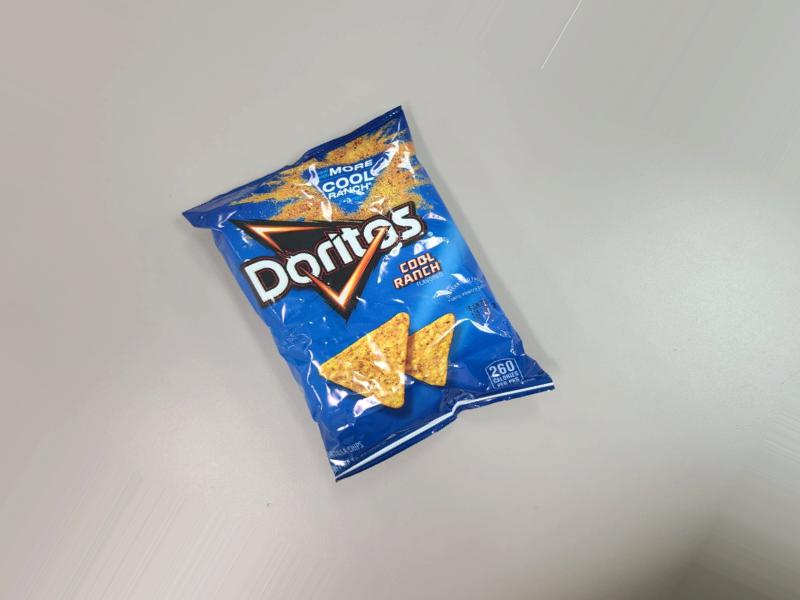doritos: (192, 78, 546, 503)
